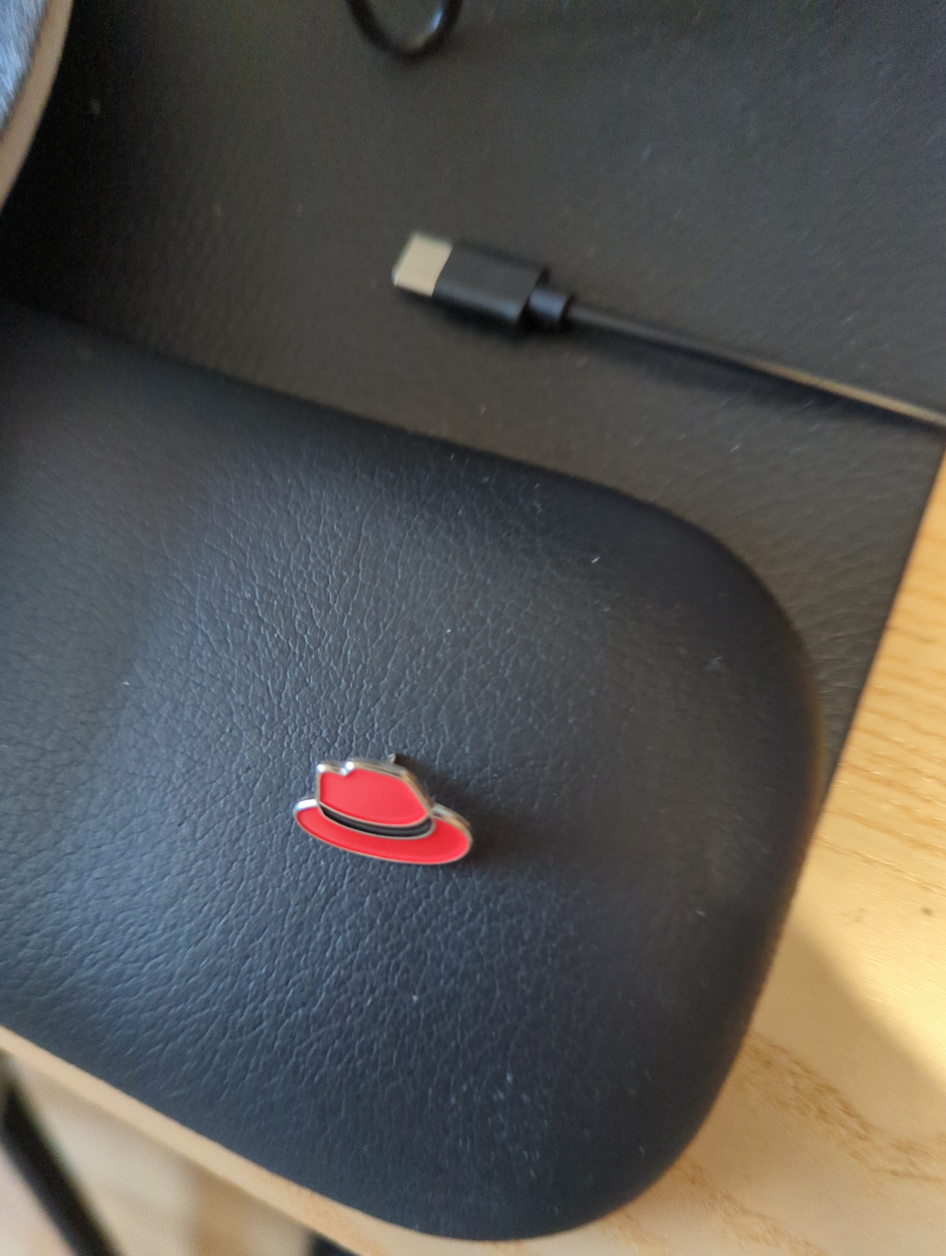Red-Hat: (229, 686, 596, 941)
